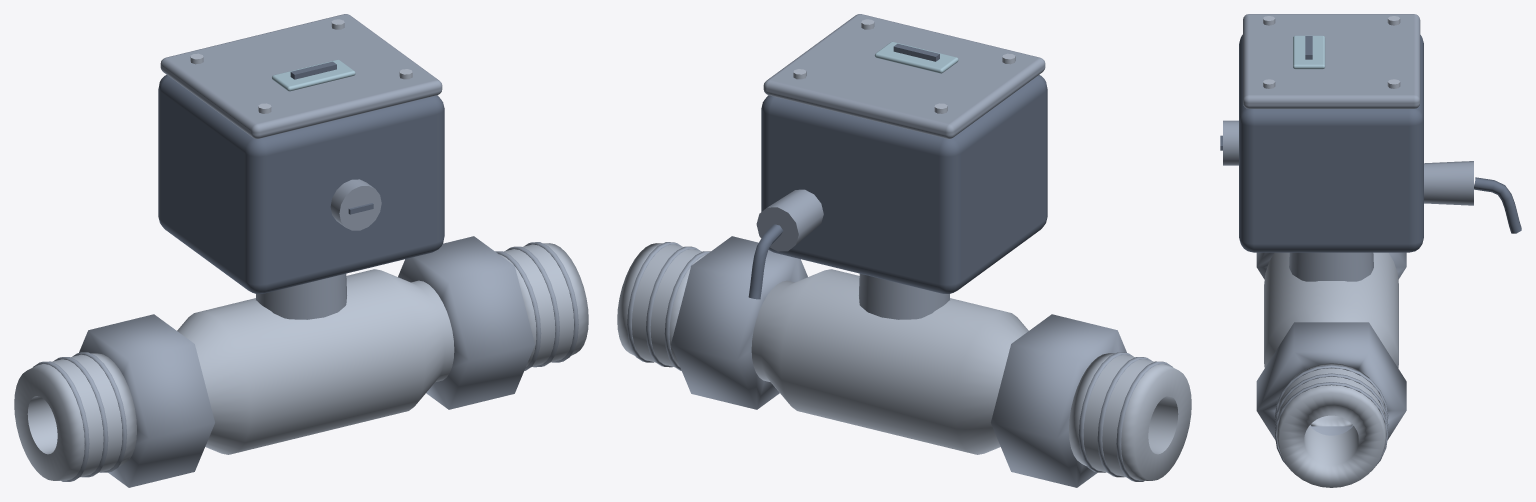
Rendered from 电动阀门-lite.glb.
3 views of the same model, side by side, from view 1: azimuth 30°, elevation 25°; view 2: azimuth 150°, elevation 25°; view 3: azimuth 270°, elevation 25° (orthographic). The views are drawn at different scales.
Visible parts, largest first — view 1: valve-coupling, valve-metal, valve-casing, valve-detail; view 2: valve-coupling, valve-metal, valve-casing, valve-detail; view 3: valve-coupling, valve-casing, valve-metal, valve-detail.
Boxes of the visible parts, <box> form: valve-coupling: <box>33,14,578,487</box>; valve-metal: <box>14,19,588,480</box>; valve-casing: <box>158,61,444,293</box>; valve-detail: <box>272,59,355,91</box>; valve-coupling: <box>627,14,1172,487</box>; valve-metal: <box>617,19,1191,480</box>; valve-casing: <box>748,43,1047,299</box>; valve-detail: <box>874,41,958,73</box>; valve-coupling: <box>1223,14,1473,471</box>; valve-casing: <box>1220,34,1521,252</box>; valve-metal: <box>1263,16,1400,487</box>; valve-detail: <box>1293,35,1325,69</box>.
Size of the model in its own units: 0.22 by 0.15 by 0.1206.
